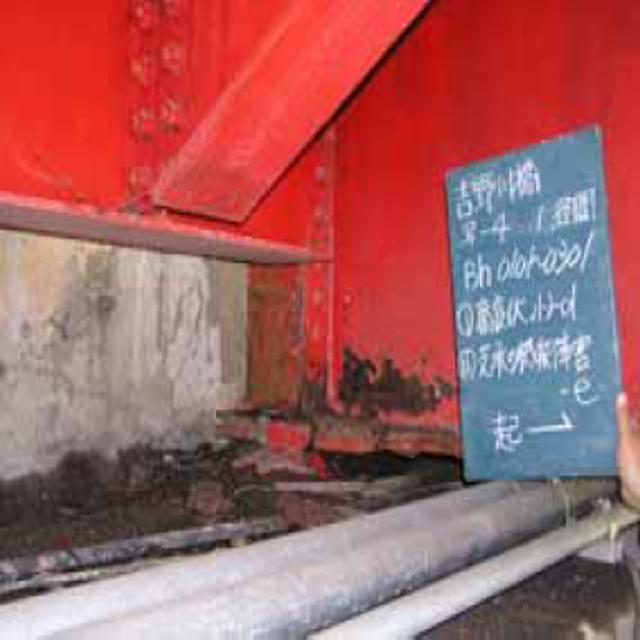corrosion: (241, 269, 453, 500)
